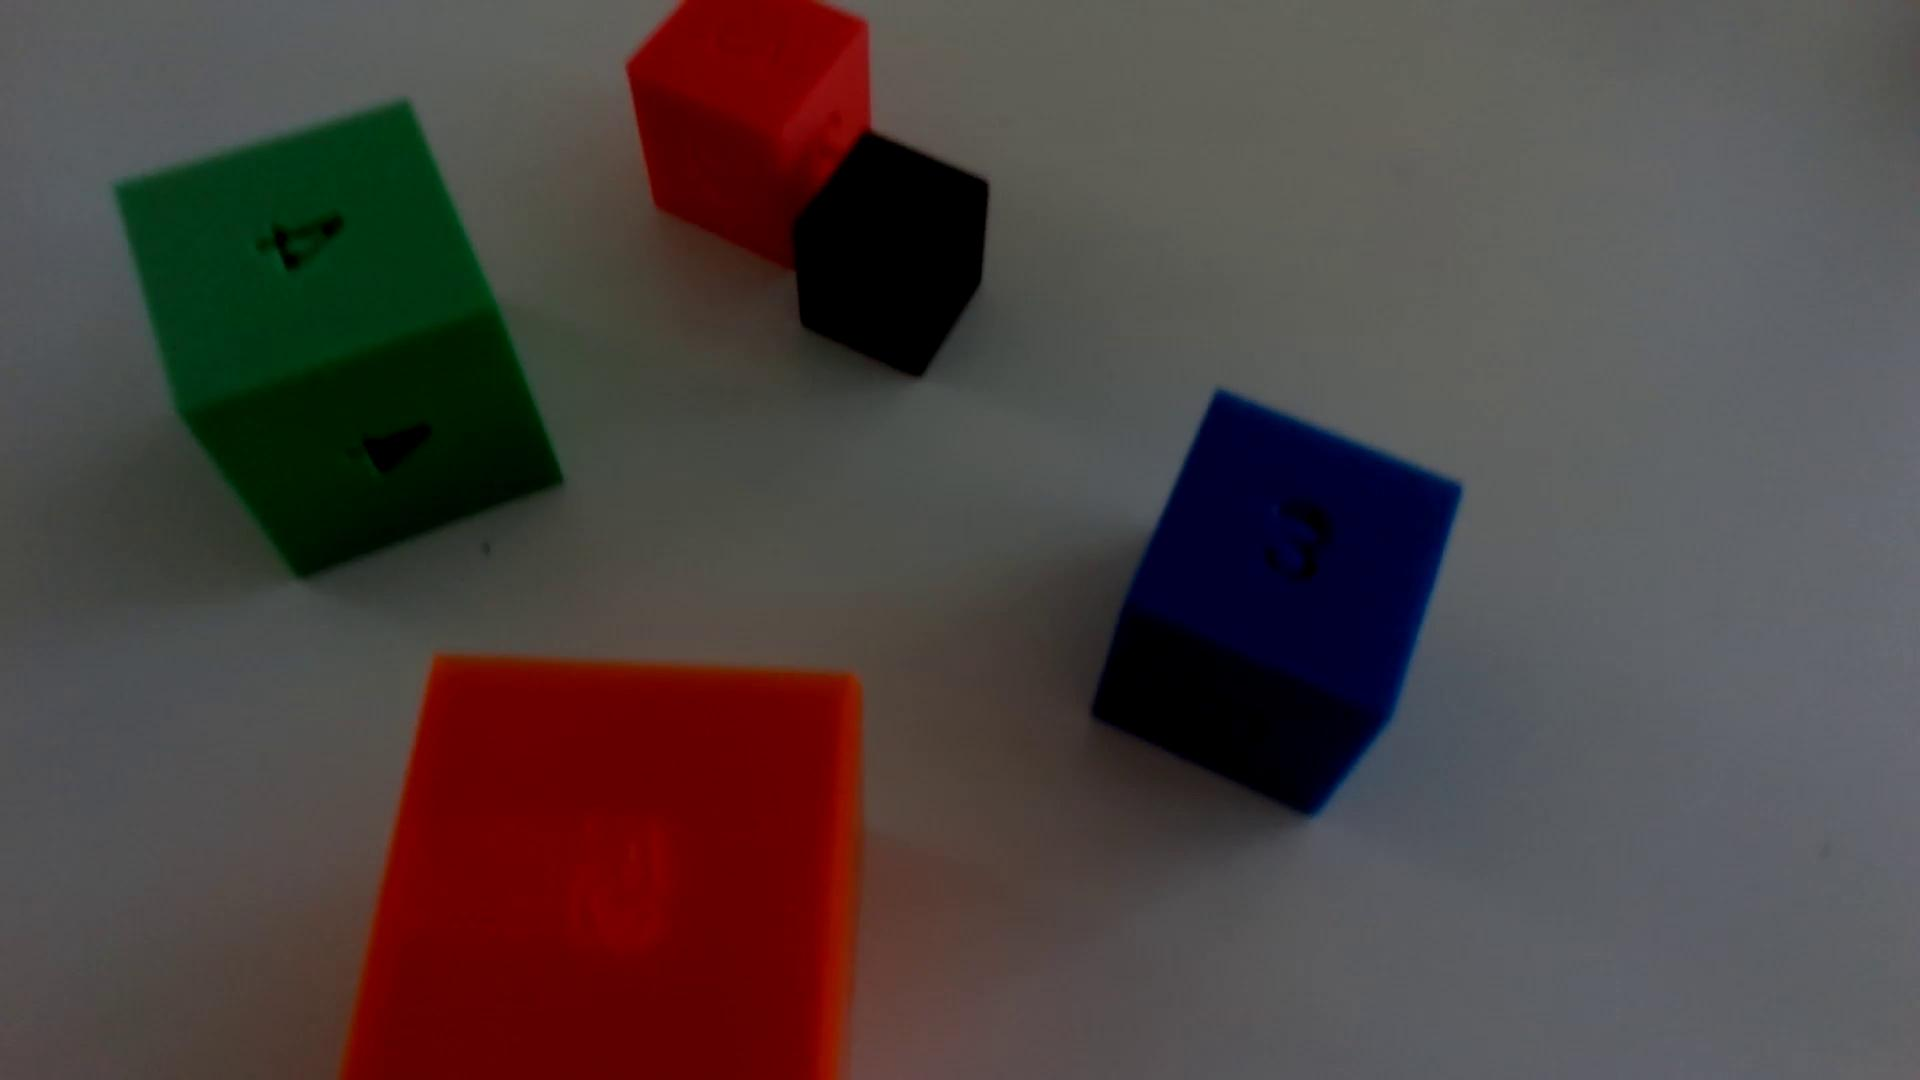black: (795, 133, 990, 377)
blue: (1095, 393, 1460, 814)
green: (117, 102, 562, 576)
orange: (342, 658, 862, 1080)
red: (626, 0, 872, 266)
